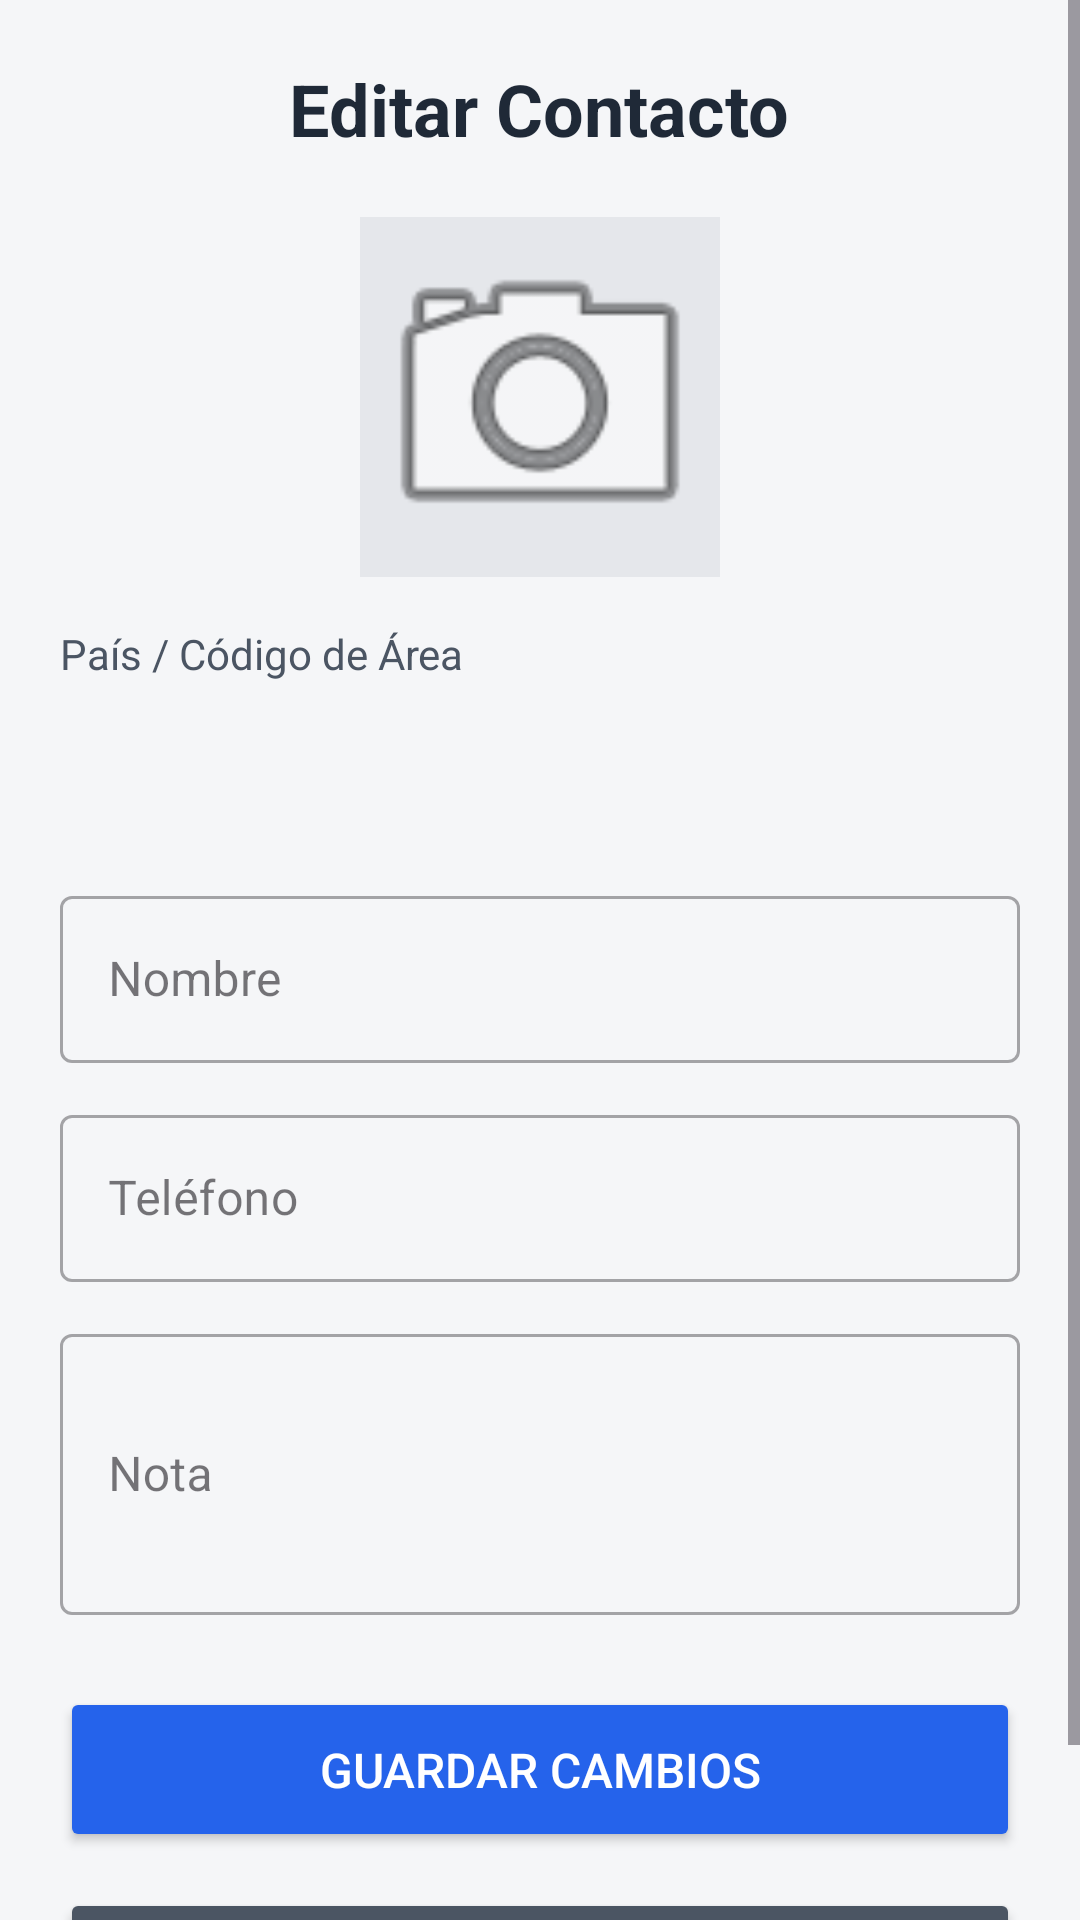

Screen size 1080px×1920px. Icon name, then its center in pixels as (x=x, y=y):
camera: (x=540, y=397)
